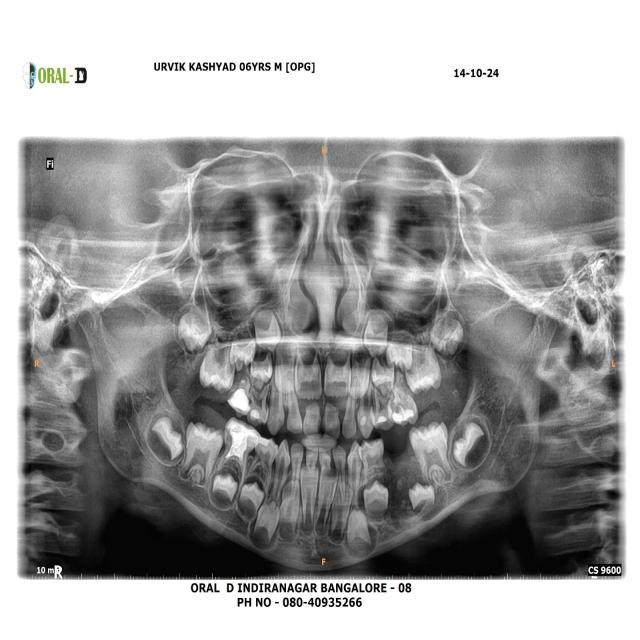Premolars: (356, 434, 394, 491)
